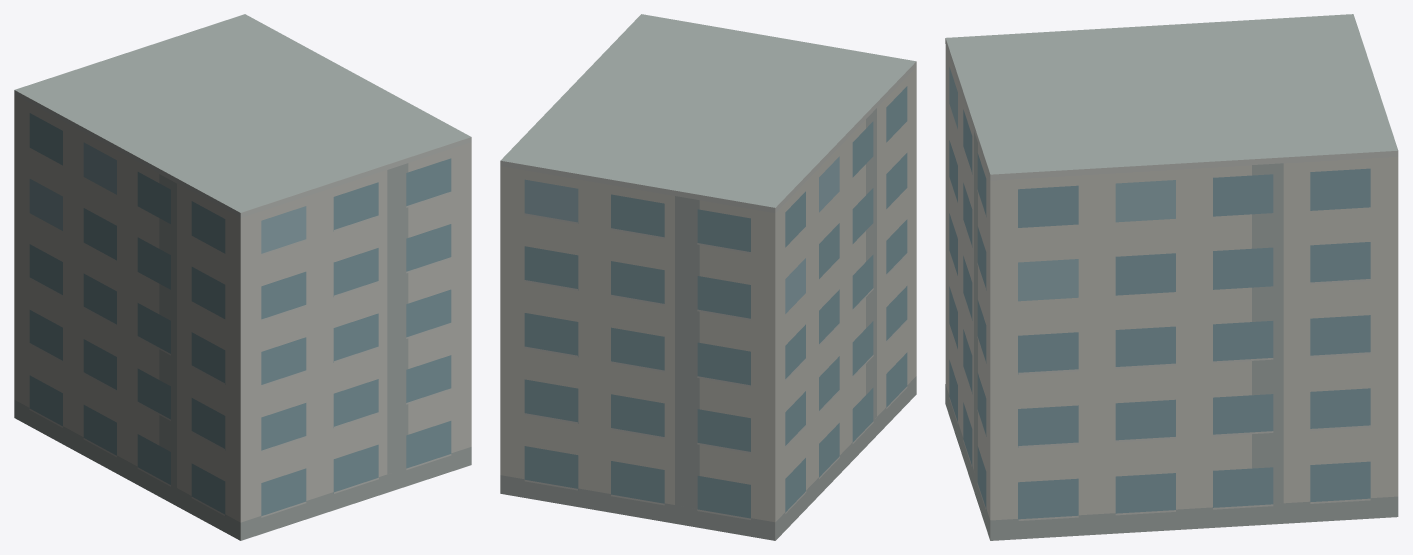
The model's file is residential-dce34e87-2452-4f0c-95cb-8aef8adacef6.glb.
The picture shows the model from 3 angles, left to right: view 1: azimuth 30°, elevation 25°; view 2: azimuth 150°, elevation 25°; view 3: azimuth 270°, elevation 25°; orthographic projection. The views are drawn at different scales.
Parts seen in each view (by area): view 1: residential-dce34e87-2452-4f0c-95cb-8aef8adacef6.tmp; view 2: residential-dce34e87-2452-4f0c-95cb-8aef8adacef6.tmp; view 3: residential-dce34e87-2452-4f0c-95cb-8aef8adacef6.tmp.
Part boxes in pixels (x1,y1,x2,y2): residential-dce34e87-2452-4f0c-95cb-8aef8adacef6.tmp: (14,14,471,540); residential-dce34e87-2452-4f0c-95cb-8aef8adacef6.tmp: (500,14,916,540); residential-dce34e87-2452-4f0c-95cb-8aef8adacef6.tmp: (945,14,1398,540).
Bounding box in the file's own units: 14.35 × 15.25 × 17.1.
